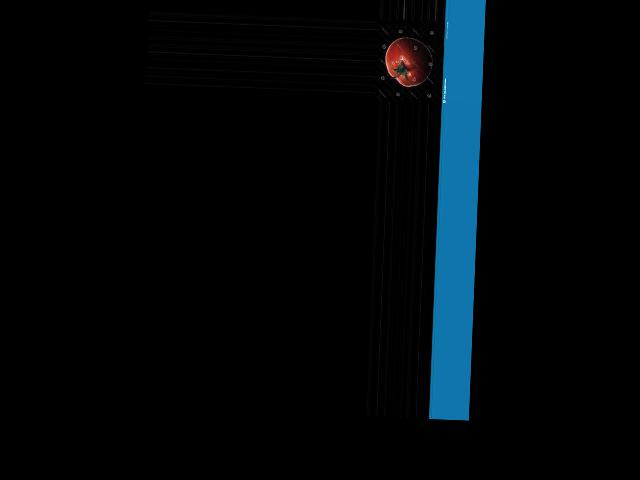tomato: (384, 35, 433, 87)
